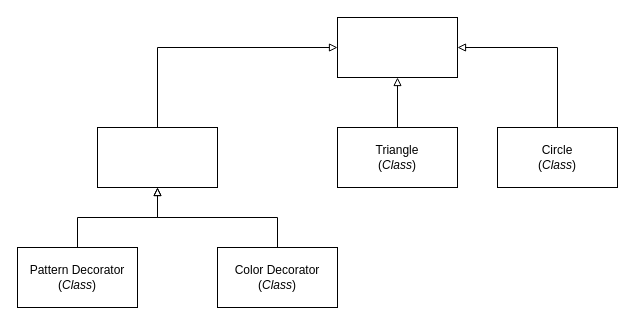
The diagram is 635 pixels wide and 325 high, and some of its shapes have lost their labels. The centre of each missing label's shape, as x and y in pixels:
"Shape ( Interface )" goes at [397,47].
"Shape Decorator ( Abstract Class )" goes at [157,157].
